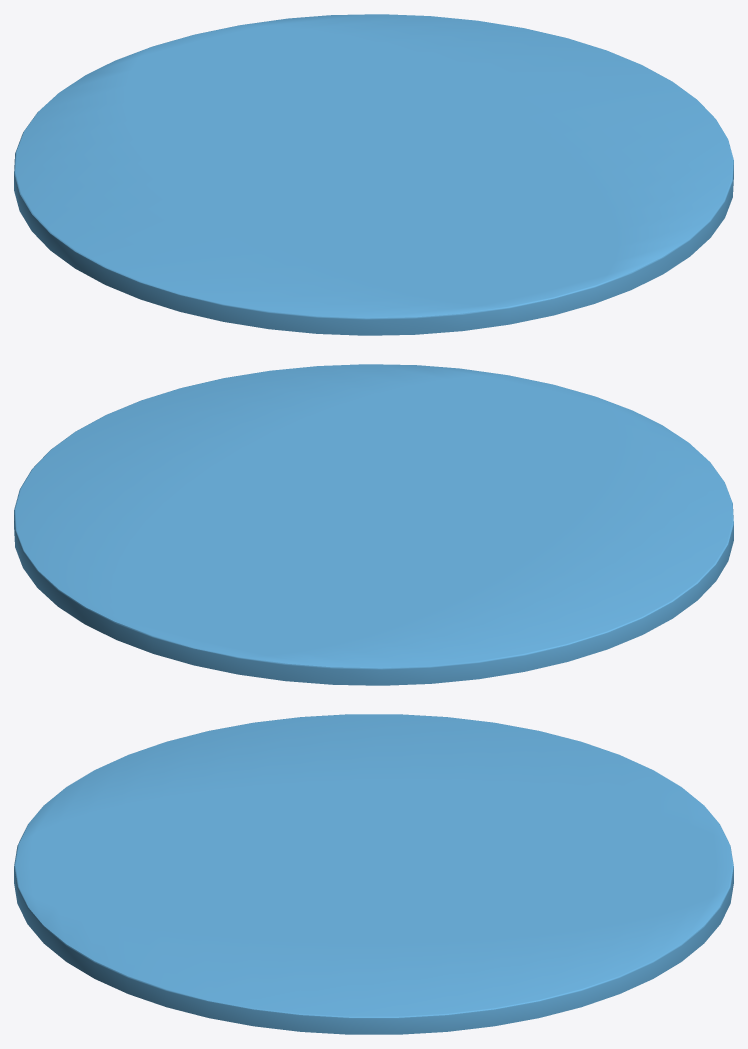
The picture shows the model from 3 angles, top to bottom: view 1: azimuth 30°, elevation 25°; view 2: azimuth 150°, elevation 25°; view 3: azimuth 270°, elevation 25°; orthographic projection.
Visible parts, largest first — view 1: Lb_Base; view 2: Lb_Base; view 3: Lb_Base.
Part boxes in pixels (<box>): Lb_Base: <box>14,14,733,335</box>; Lb_Base: <box>14,364,733,685</box>; Lb_Base: <box>14,714,733,1034</box>.
Size of the model in its own units: 12697 by 342 by 12727.
